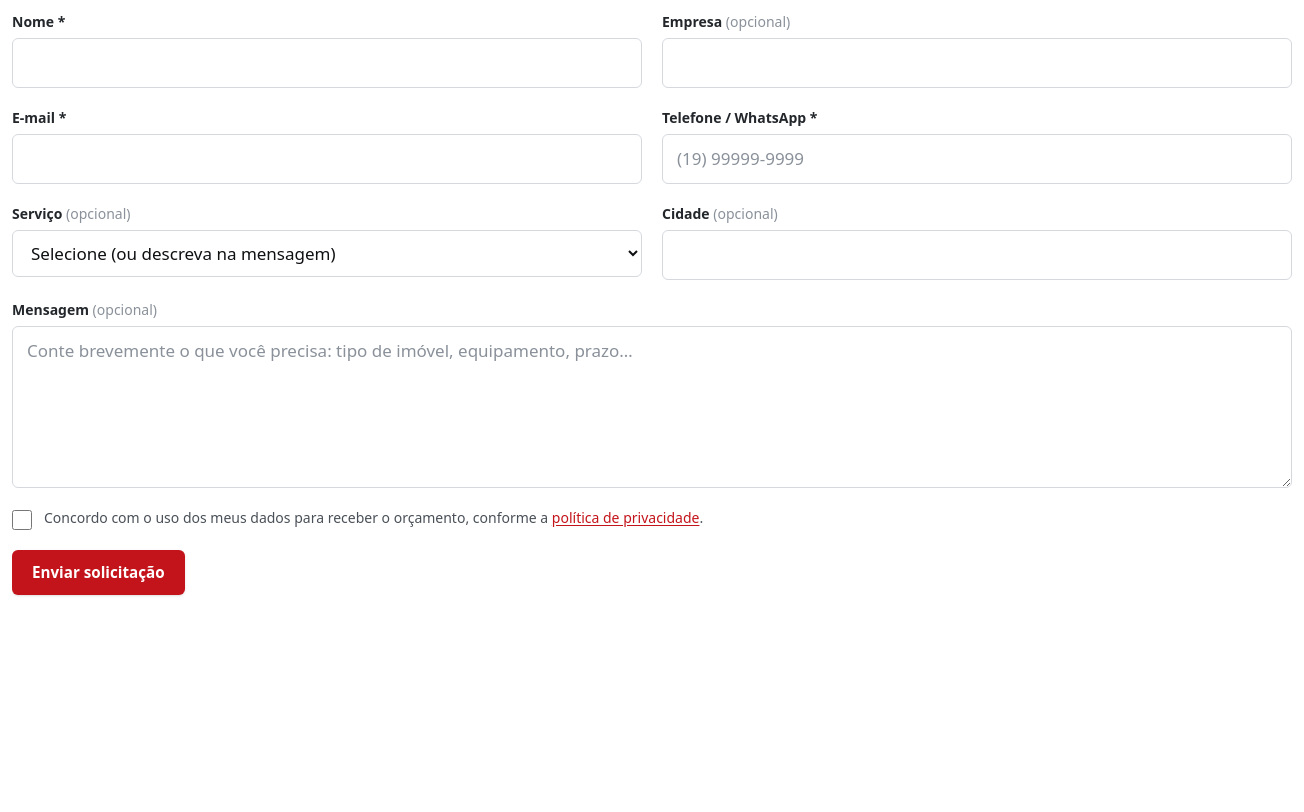
Test: QuoteForm › shows an error with WhatsApp fallback when the API answers success:false
Type "Maria Silva" into the field labelled "Nome *" at (327, 63), box [12,38,642,88]
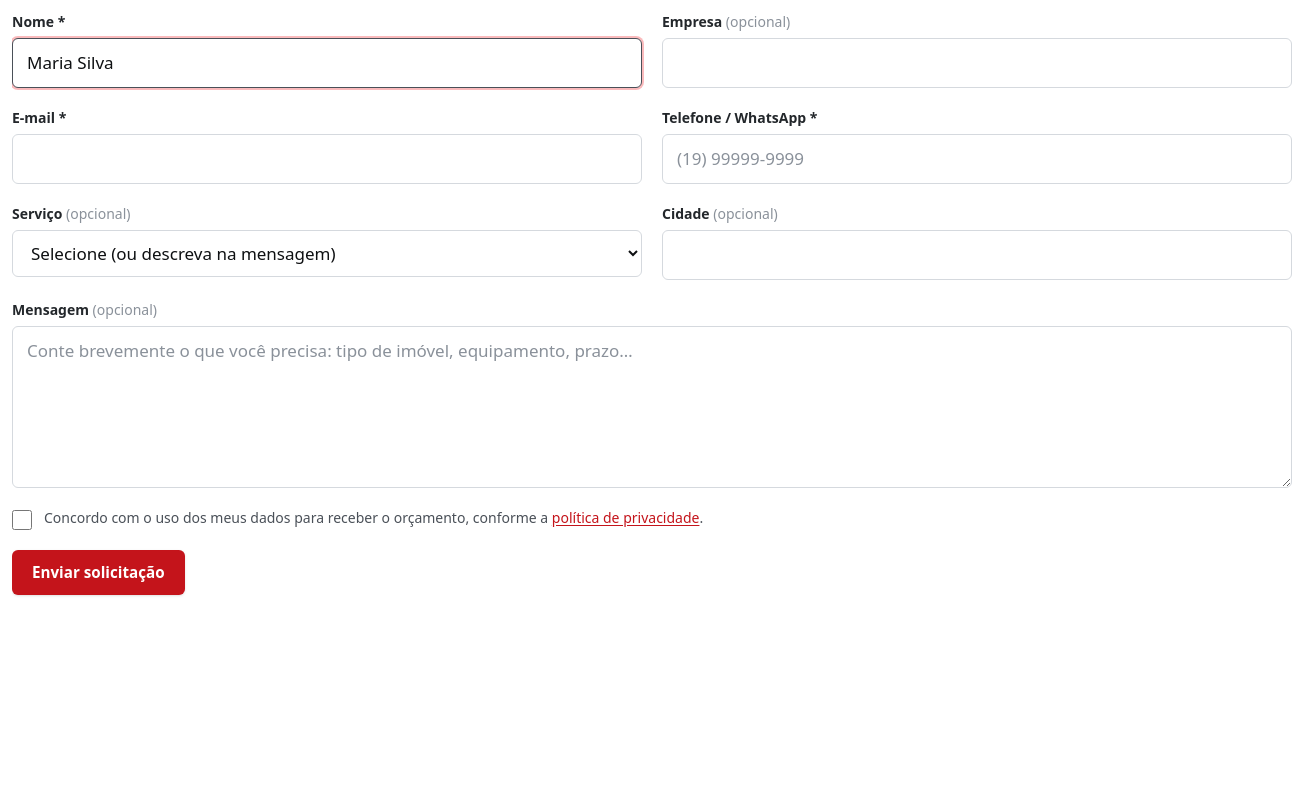
Type "maria@empresa.com.br" into the field labelled "E-mail *" at (327, 159), box [12,134,642,184]
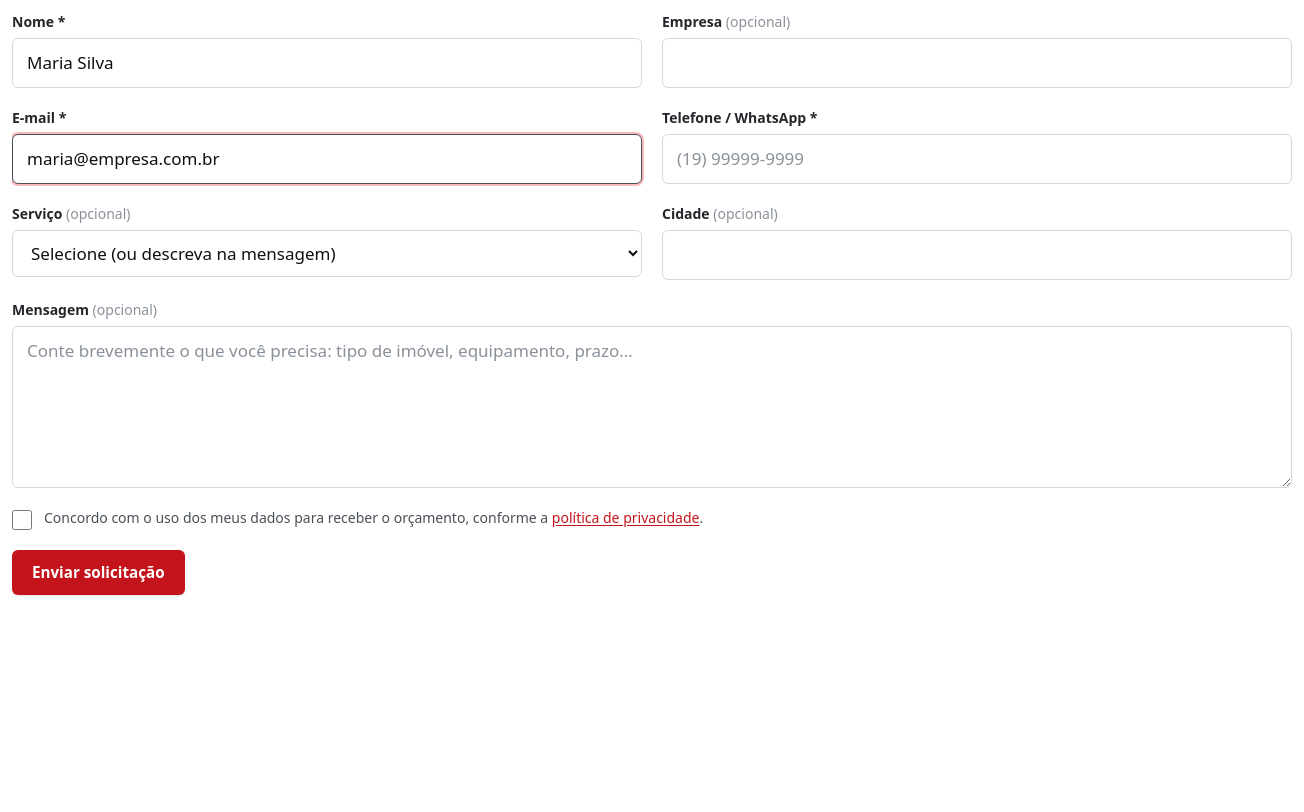
Type "(19) 99999-0000" into the field labelled "Telefone / WhatsApp *" at (977, 159), box [662,134,1292,184]
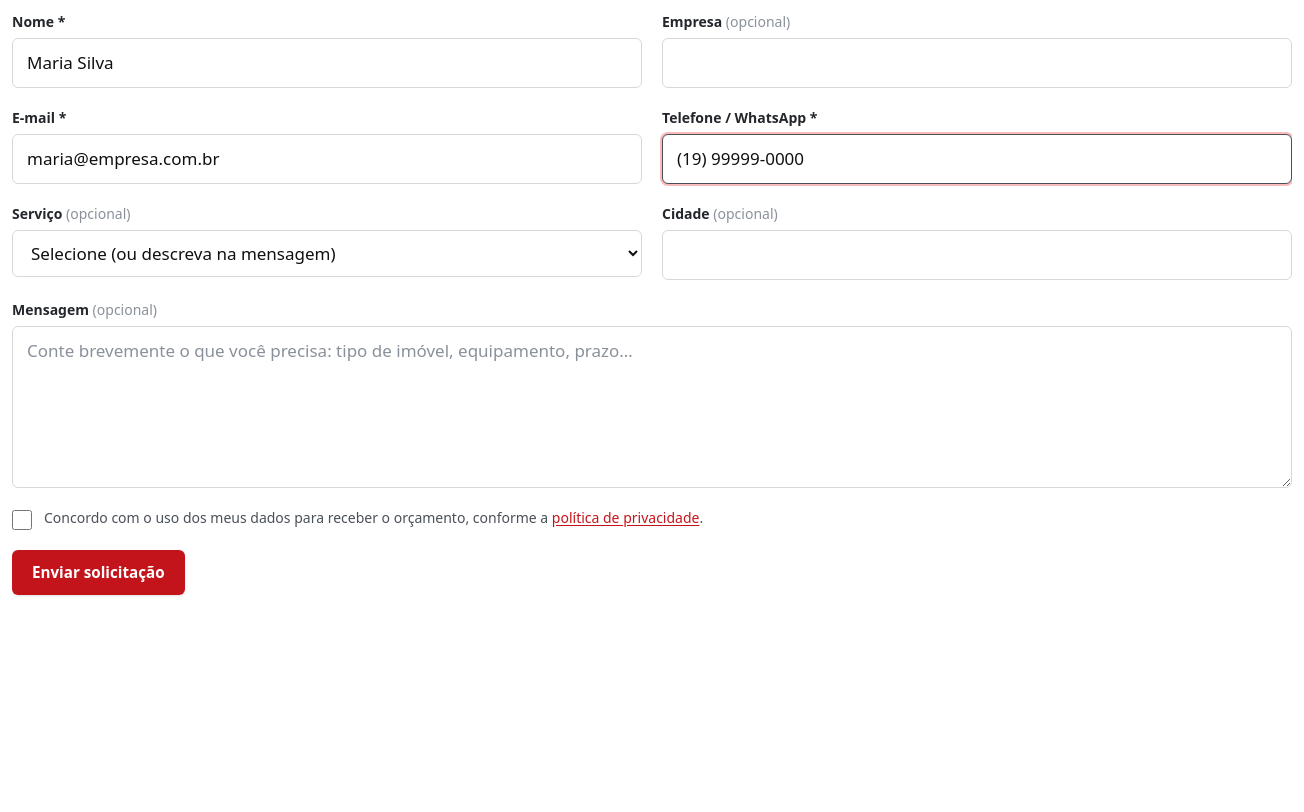
Click the checkbox labelled "Concordo" at (22, 520), box [12,510,32,530]
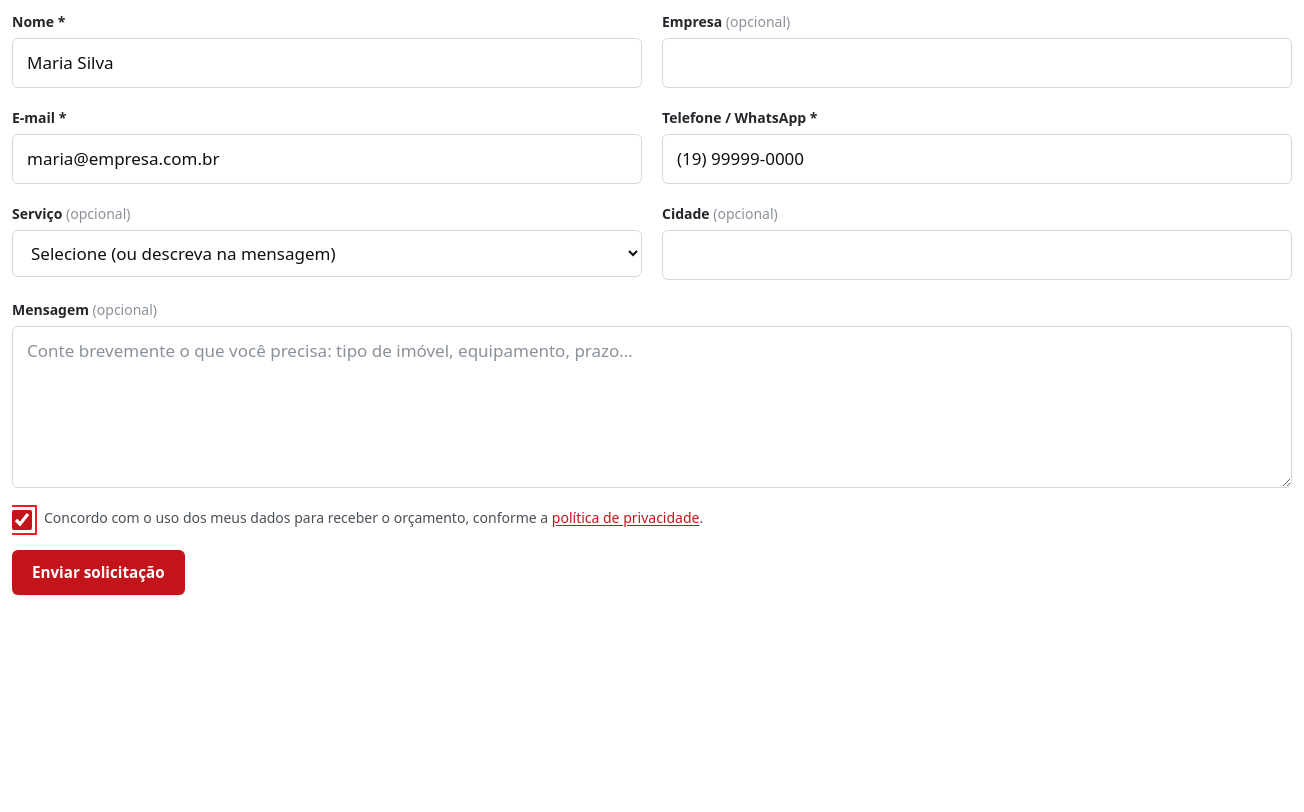
Click the button "Enviar solicitação" at (98, 573), box [12,550,185,596]
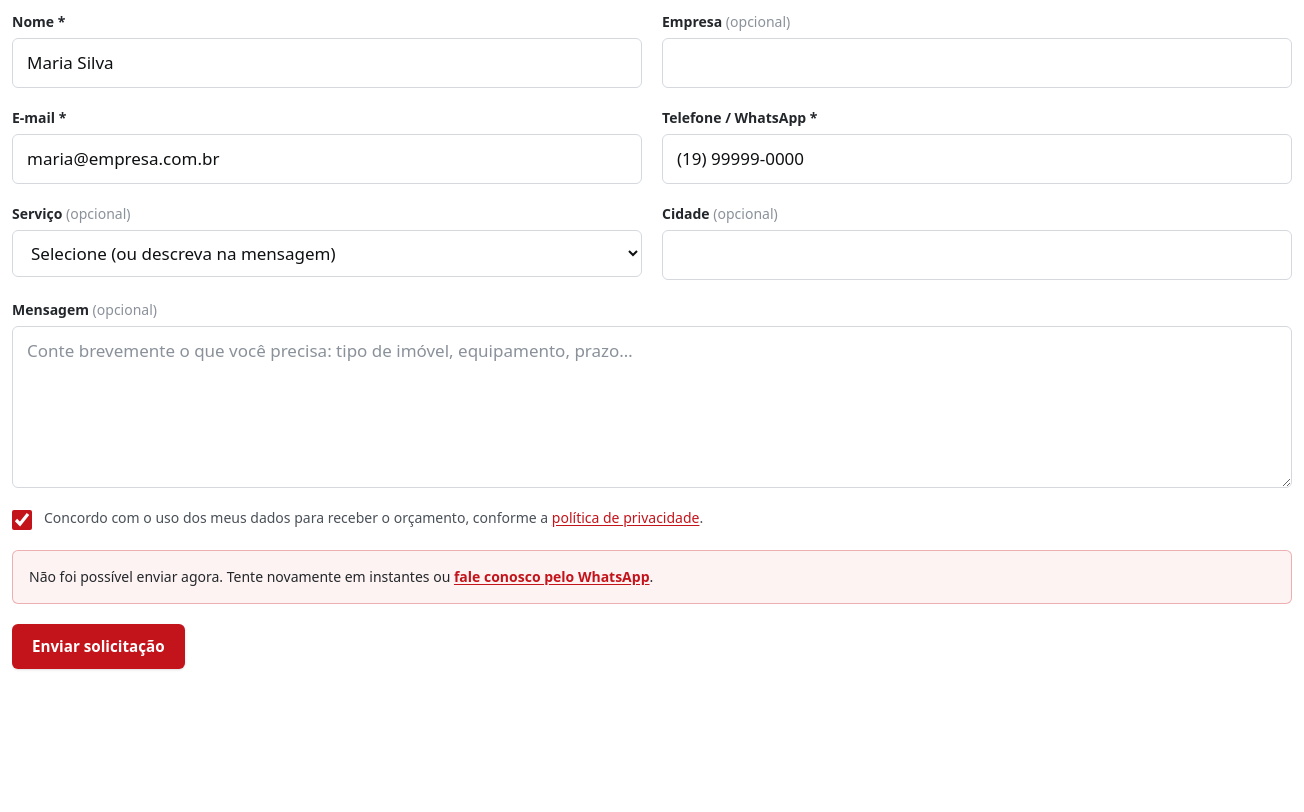
Result: the message shows "Não foi possível enviar" at [29,567,450,586]
